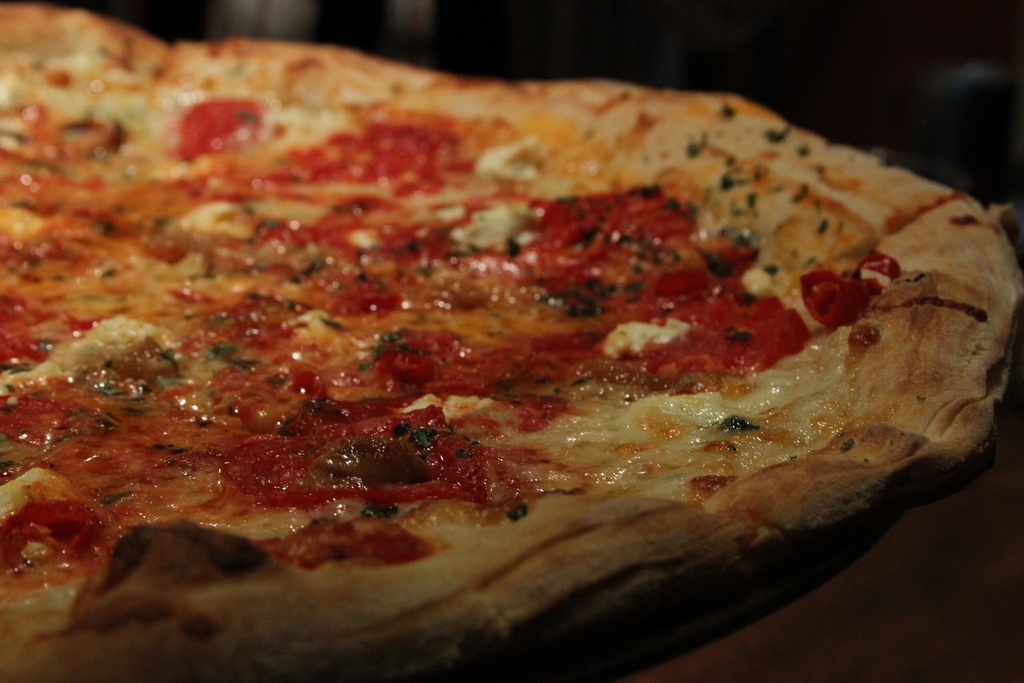Pizza: (3, 35, 1024, 683)
